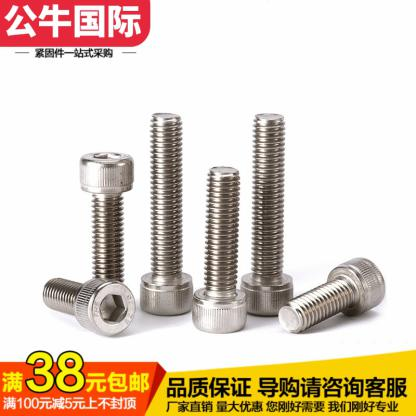FOD: (138, 109, 195, 317), (240, 107, 296, 316), (188, 164, 250, 334), (276, 256, 388, 335), (77, 152, 136, 286), (42, 275, 136, 338)
